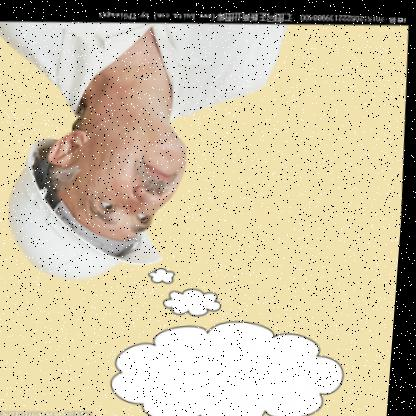helmet: (0, 125, 181, 287)
